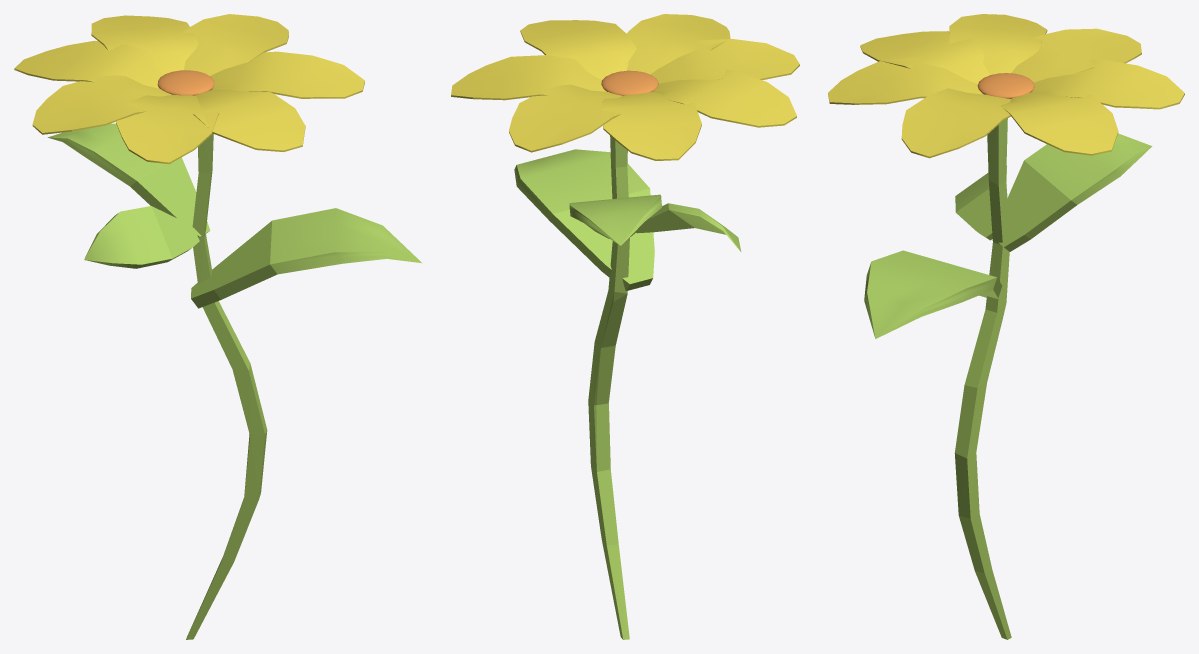
File: Flower.fbx
3 renders of one model, left to right at view 1: azimuth 30°, elevation 25°; view 2: azimuth 150°, elevation 25°; view 3: azimuth 270°, elevation 25°, orthographic.
Parts seen in each view (by area): view 1: group4.009, group4.008, group4.001, group4.007, group4.011, group4, group4.002, group4.003, group4.006, group4.004, group4.005, group4.010; view 2: group4.009, group4.008, group4.006, group4.003, group4.005, group4.004, group4.007, group4.002, group4.011, group4.001, group4, group4.010; view 3: group4.008, group4.001, group4.009, group4.007, group4.004, group4.005, group4.011, group4.006, group4.002, group4.003, group4, group4.010.
Part boxes in pixels (bbox=[...]): group4.009: bbox=[191, 208, 422, 308]; group4.008: bbox=[186, 133, 267, 639]; group4.001: bbox=[47, 123, 210, 237]; group4.007: bbox=[210, 51, 364, 98]; group4.011: bbox=[193, 89, 305, 151]; group4: bbox=[84, 206, 199, 268]; group4.002: bbox=[116, 94, 219, 164]; group4.003: bbox=[32, 75, 172, 134]; group4.006: bbox=[14, 40, 163, 88]; group4.004: bbox=[182, 14, 288, 75]; group4.005: bbox=[91, 15, 198, 74]; group4.010: bbox=[157, 70, 214, 95]; group4.009: bbox=[514, 149, 654, 290]; group4.008: bbox=[588, 136, 629, 639]; group4.006: bbox=[602, 92, 701, 160]; group4.003: bbox=[653, 69, 796, 127]; group4.005: bbox=[509, 84, 622, 152]; group4.004: bbox=[451, 55, 606, 100]; group4.007: bbox=[520, 20, 636, 79]; group4.002: bbox=[650, 39, 799, 83]; group4.011: bbox=[626, 14, 730, 74]; group4.001: bbox=[569, 194, 661, 245]; group4: bbox=[636, 203, 741, 251]; group4.010: bbox=[601, 70, 658, 95]; group4.008: bbox=[954, 118, 1011, 639]; group4.001: bbox=[998, 133, 1152, 251]; group4.009: bbox=[864, 250, 1002, 338]; group4.007: bbox=[901, 88, 1010, 158]; group4.004: bbox=[1001, 92, 1118, 155]; group4.005: bbox=[1032, 59, 1184, 109]; group4.011: bbox=[828, 57, 982, 104]; group4.006: bbox=[1011, 28, 1141, 82]; group4.002: bbox=[860, 31, 989, 83]; group4.003: bbox=[949, 14, 1047, 74]; group4: bbox=[955, 166, 1006, 240]; group4.010: bbox=[977, 73, 1034, 98].
Size of the model in its own units: 31.68 by 52.69 by 30.4.
